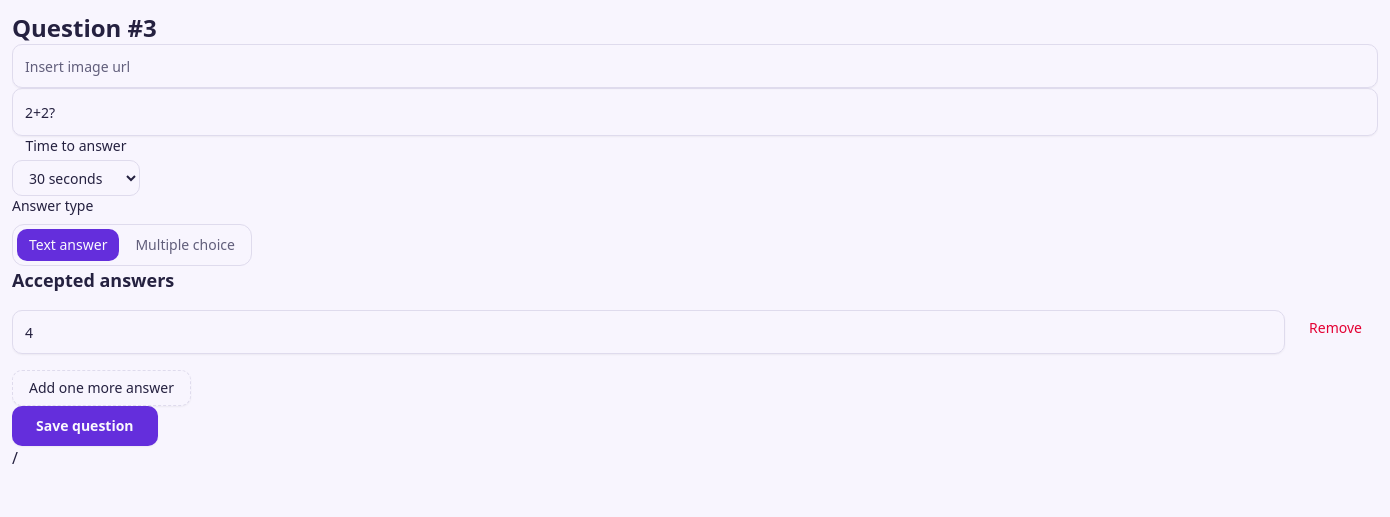
EditQuestionForm › rejects an empty question text and an empty answer
Clear the field with test id "question-text-input" at (695, 112), box [12, 88, 1378, 136]
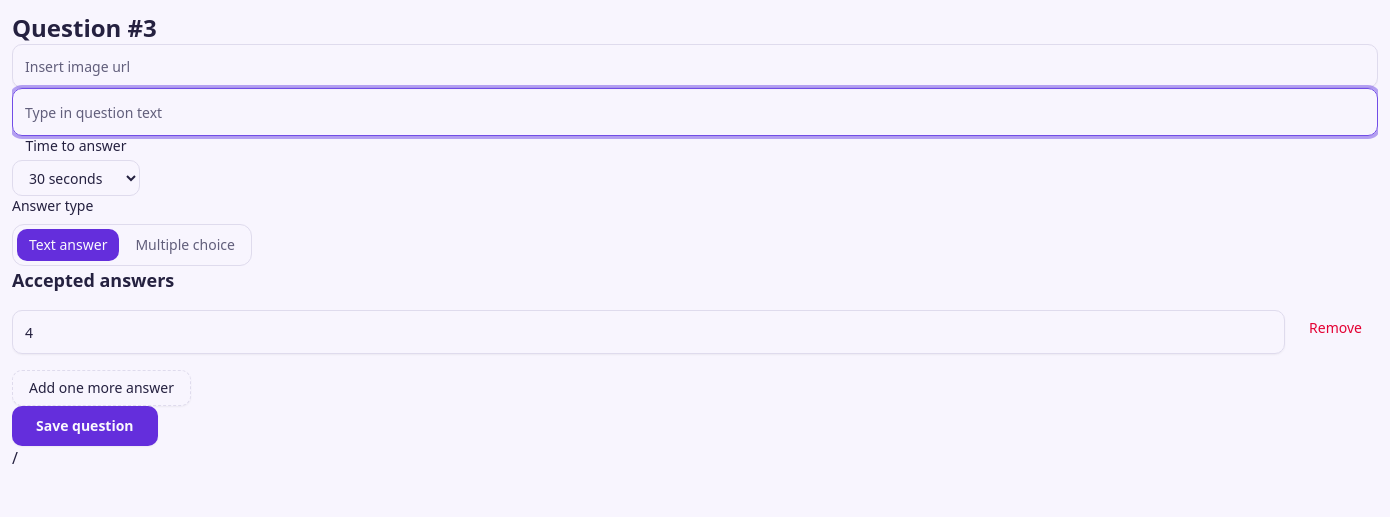
Clear the field with test id "accepted-answer-input" at (649, 332), box [12, 310, 1285, 354]
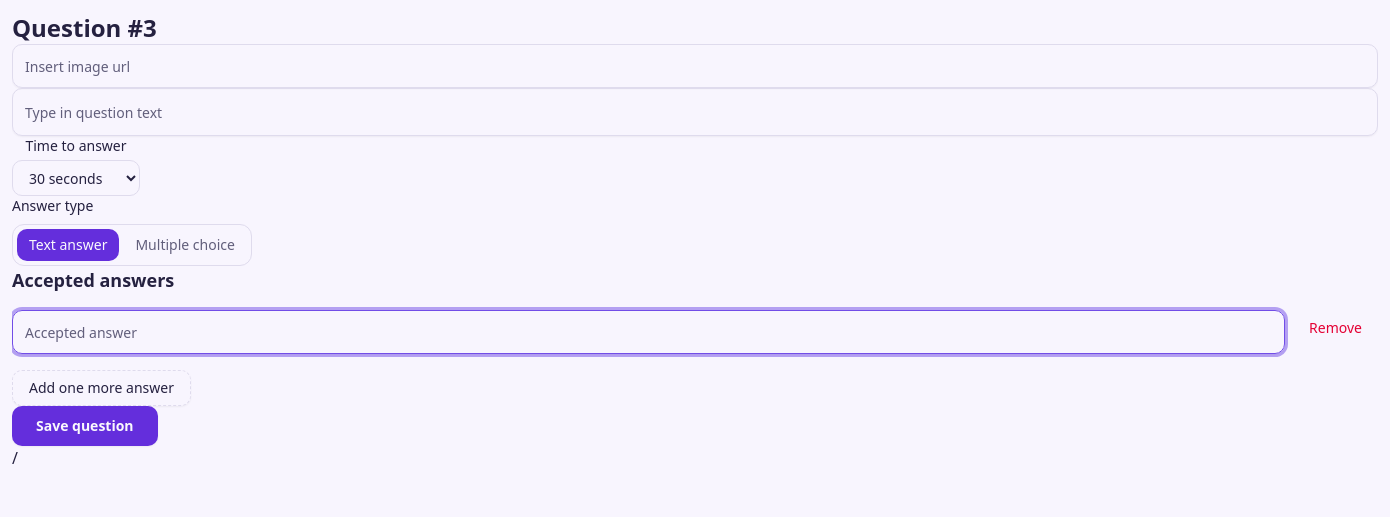
Click the button with test id "save-question-button" at (85, 426), box [12, 406, 158, 446]
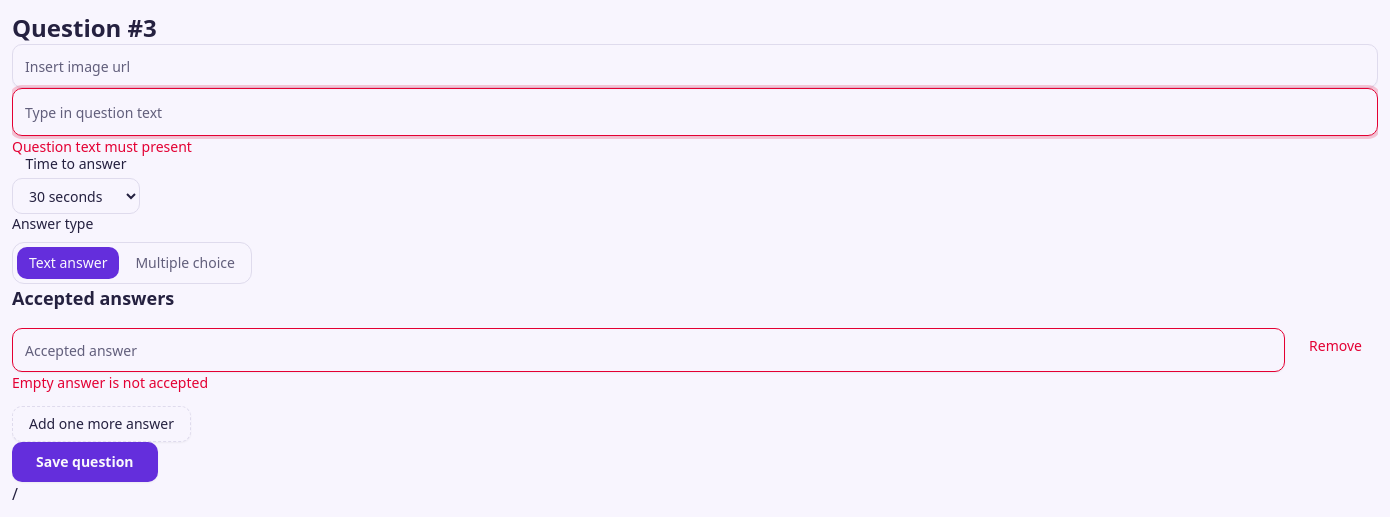
Expected: the text "Question text must present" is shown, [12, 140, 192, 154]
Expected: the text "Empty answer is not accepted" is shown, [12, 376, 208, 390]
